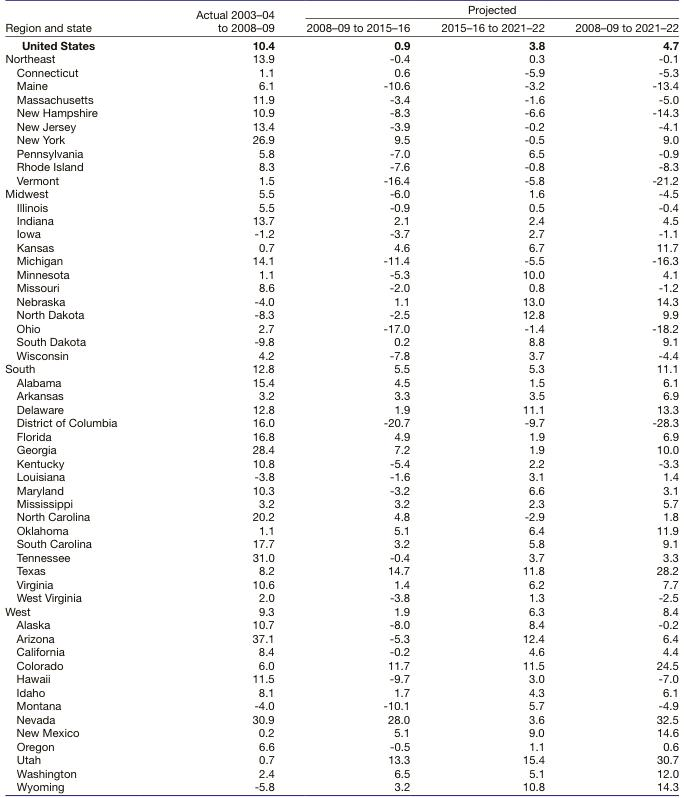table: (4, 3, 678, 792)
table column: (4, 3, 155, 792), (289, 3, 424, 792), (424, 3, 559, 792), (155, 3, 289, 792), (559, 3, 678, 792)
table column header: (4, 3, 678, 36)
table row: (4, 18, 678, 36), (4, 36, 678, 52), (4, 3, 678, 18), (4, 65, 678, 79), (4, 92, 678, 106), (4, 119, 678, 133), (4, 159, 678, 173), (4, 186, 678, 200), (4, 213, 678, 227), (4, 240, 678, 254), (4, 267, 678, 281), (4, 294, 678, 308), (4, 321, 678, 335), (4, 348, 678, 362), (4, 375, 678, 389), (4, 402, 678, 416), (4, 429, 678, 443), (4, 469, 678, 483), (4, 496, 678, 510), (4, 523, 678, 537), (4, 550, 678, 564), (4, 577, 678, 591), (4, 604, 678, 618), (4, 631, 678, 645), (4, 658, 678, 672), (4, 685, 678, 699), (4, 712, 678, 726), (4, 752, 678, 766), (4, 52, 678, 65), (4, 79, 678, 92), (4, 106, 678, 119), (4, 133, 678, 146), (4, 146, 678, 159), (4, 173, 678, 186), (4, 200, 678, 213), (4, 227, 678, 240), (4, 254, 678, 267), (4, 281, 678, 294), (4, 308, 678, 321), (4, 335, 678, 348), (4, 362, 678, 375), (4, 389, 678, 402), (4, 416, 678, 429), (4, 443, 678, 456), (4, 456, 678, 469), (4, 483, 678, 496), (4, 510, 678, 523), (4, 537, 678, 550), (4, 564, 678, 577), (4, 591, 678, 604), (4, 618, 678, 631), (4, 645, 678, 658), (4, 672, 678, 685), (4, 699, 678, 712), (4, 726, 678, 739), (4, 739, 678, 752), (4, 766, 678, 779), (4, 779, 678, 792)
table spanning cell: (289, 3, 678, 18), (4, 3, 155, 36), (155, 3, 289, 36)
